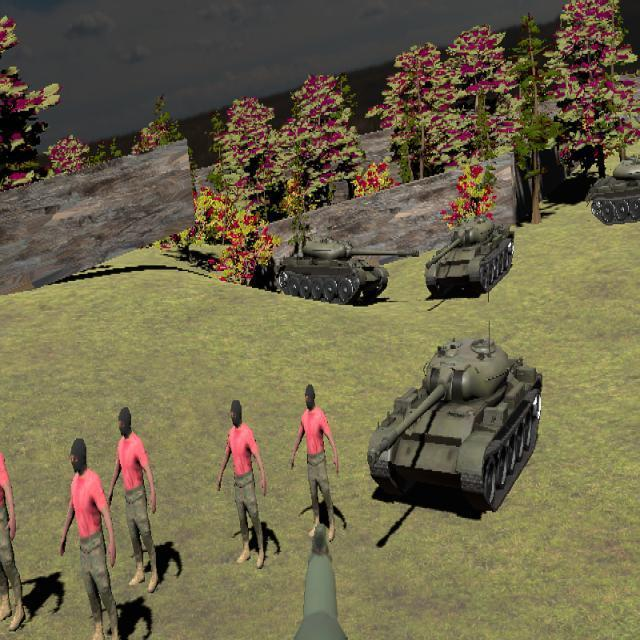Human: (60, 437, 123, 640), (108, 406, 160, 592), (217, 399, 268, 570), (290, 384, 339, 543), (0, 403, 27, 633)
Tank: (366, 338, 544, 514), (276, 239, 421, 307), (425, 214, 515, 298), (588, 157, 640, 226)
